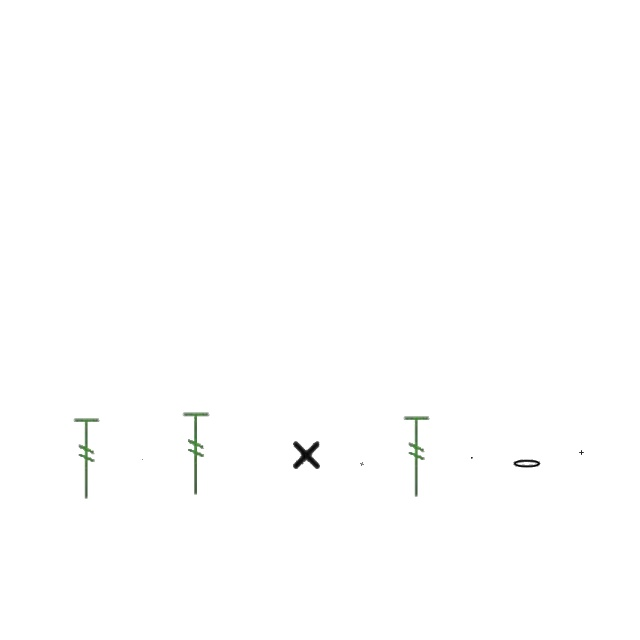chain: (511, 458, 543, 470), (471, 457, 473, 459), (140, 460, 144, 460)
double: (290, 436, 324, 472), (580, 450, 584, 456)
enseble_chain: (360, 462, 364, 466)
fan: (180, 410, 214, 498), (71, 416, 103, 502), (401, 414, 433, 500)
